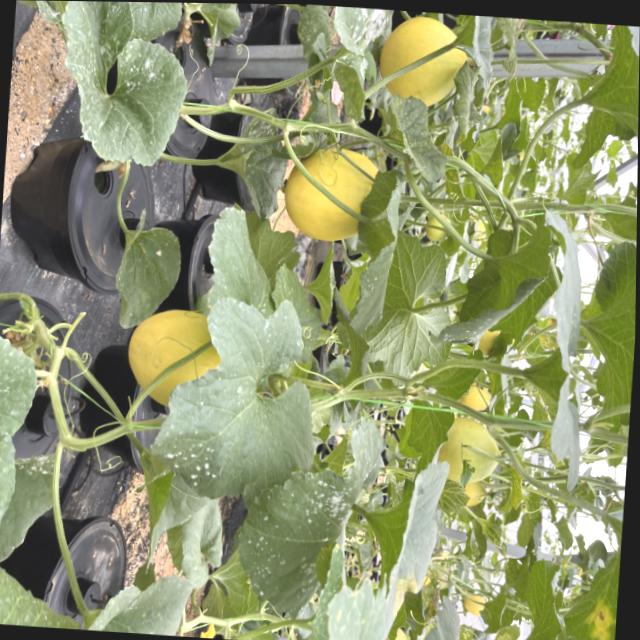alternaria leaf blight: (567, 520, 622, 640)
downy mildew: (349, 461, 445, 640), (211, 86, 295, 209), (197, 199, 280, 317), (382, 82, 454, 184)
healthy: (340, 226, 459, 391), (449, 215, 563, 351), (572, 252, 636, 461), (564, 21, 640, 178), (509, 543, 572, 640)
powdery mildew: (152, 302, 318, 509), (48, 1, 191, 170), (242, 435, 370, 621), (113, 223, 186, 336), (326, 5, 388, 109), (164, 495, 226, 590)
